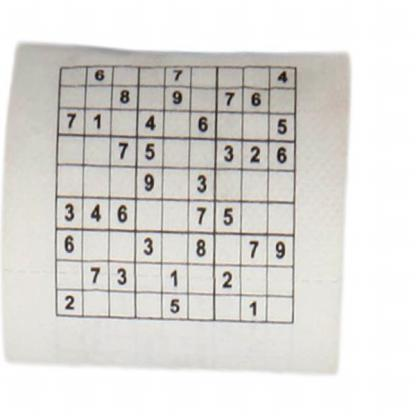sudoku: (50, 62, 300, 331)
